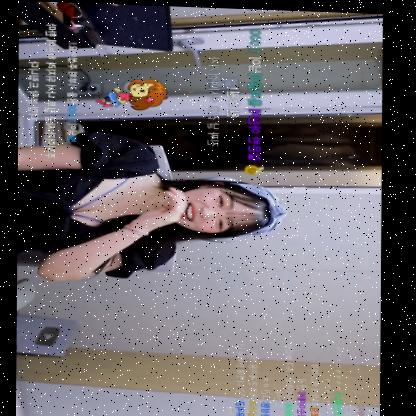donation: (25, 21, 169, 161), (205, 26, 264, 174)
streamer: (16, 129, 287, 288)
